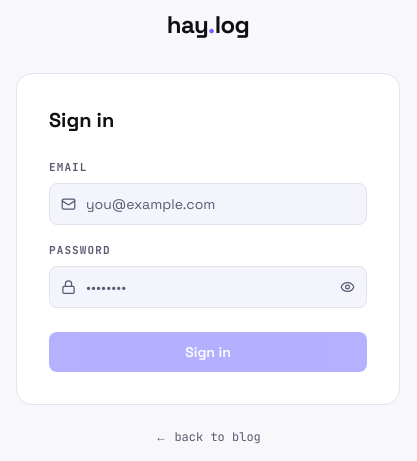
Test: LoginPage — submit button disabled state › is enabled when both email and password are filled
Type "user@example.com" into the field with placeholder "you@example.com".
click(208, 204); type("user@example.com")  # box [49, 183, 367, 225]
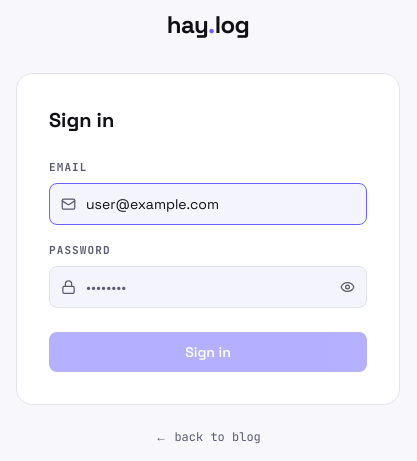
Type "secret" into the password field with placeholder "••••••••".
click(208, 287); type("secret")  # box [49, 266, 367, 308]
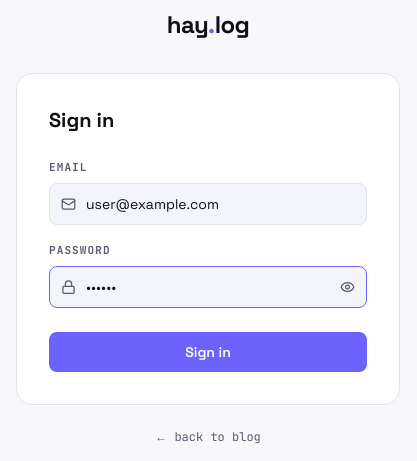
Expected: the button "Sign in" is enabled, [49, 332, 367, 372]
